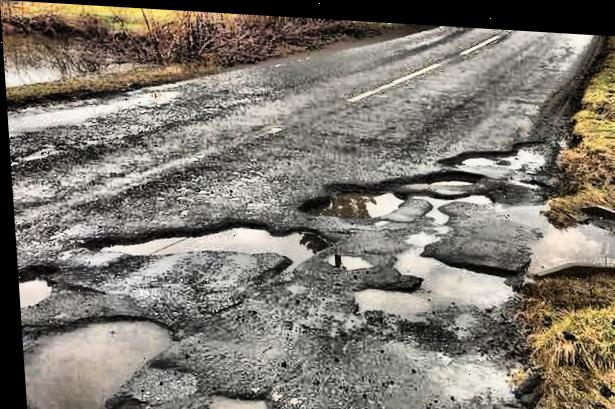pothole: (16, 304, 181, 409), (86, 211, 341, 268), (350, 244, 520, 321), (299, 170, 411, 229), (449, 128, 555, 170), (405, 157, 484, 188)
